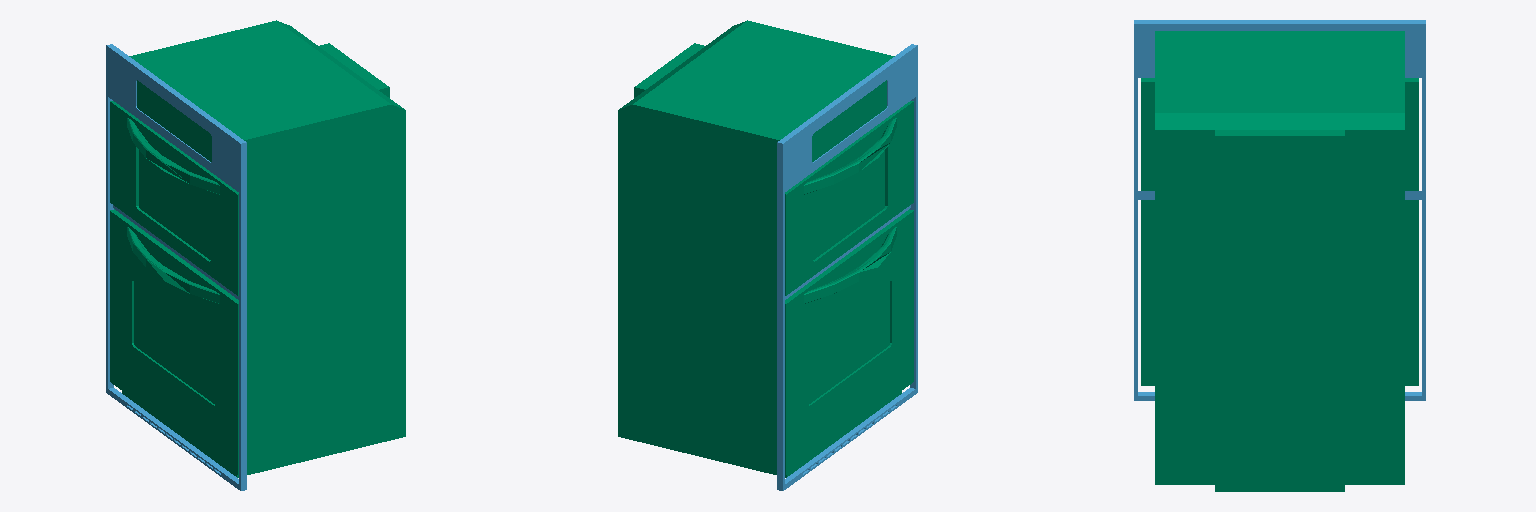
The robot description file, URDF, robot "partnet_83ab18386e87bf4efef598dabc93c115":
<?xml version="1.0" ?>
<robot name="partnet_83ab18386e87bf4efef598dabc93c115">
	<link name="base"/>
	<link name="link_0">
		<visual name="handle-1">
			<origin xyz="-0.6071008788782839 -0.23394889741627845 -0.028473990602806643"/>
			<geometry>
				<mesh filename="textured_objs/original-7.obj"/>
			</geometry>
		</visual>
			<collision>
			<origin xyz="-0.6071008788782839 -0.23394889741627845 -0.028473990602806643"/>
			<geometry>
				<mesh filename="textured_objs/col_handle_0.obj"/>
			</geometry>
		</collision>
		<collision>
			<origin xyz="-0.6071008788782839 -0.23394889741627845 -0.028473990602806643"/>
			<geometry>
				<mesh filename="textured_objs/col_handle_1.obj"/>
			</geometry>
		</collision>
		<collision>
			<origin xyz="-0.6071008788782839 -0.23394889741627845 -0.028473990602806643"/>
			<geometry>
				<mesh filename="textured_objs/col_handle_10.obj"/>
			</geometry>
		</collision>
		<collision>
			<origin xyz="-0.6071008788782839 -0.23394889741627845 -0.028473990602806643"/>
			<geometry>
				<mesh filename="textured_objs/col_handle_11.obj"/>
			</geometry>
		</collision>
		<collision>
			<origin xyz="-0.6071008788782839 -0.23394889741627845 -0.028473990602806643"/>
			<geometry>
				<mesh filename="textured_objs/col_handle_2.obj"/>
			</geometry>
		</collision>
		<collision>
			<origin xyz="-0.6071008788782839 -0.23394889741627845 -0.028473990602806643"/>
			<geometry>
				<mesh filename="textured_objs/col_handle_3.obj"/>
			</geometry>
		</collision>
		<collision>
			<origin xyz="-0.6071008788782839 -0.23394889741627845 -0.028473990602806643"/>
			<geometry>
				<mesh filename="textured_objs/col_handle_4.obj"/>
			</geometry>
		</collision>
		<collision>
			<origin xyz="-0.6071008788782839 -0.23394889741627845 -0.028473990602806643"/>
			<geometry>
				<mesh filename="textured_objs/col_handle_5.obj"/>
			</geometry>
		</collision>
		<collision>
			<origin xyz="-0.6071008788782839 -0.23394889741627845 -0.028473990602806643"/>
			<geometry>
				<mesh filename="textured_objs/col_handle_6.obj"/>
			</geometry>
		</collision>
		<collision>
			<origin xyz="-0.6071008788782839 -0.23394889741627845 -0.028473990602806643"/>
			<geometry>
				<mesh filename="textured_objs/col_handle_7.obj"/>
			</geometry>
		</collision>
		<collision>
			<origin xyz="-0.6071008788782839 -0.23394889741627845 -0.028473990602806643"/>
			<geometry>
				<mesh filename="textured_objs/col_handle_8.obj"/>
			</geometry>
		</collision>
		<collision>
			<origin xyz="-0.6071008788782839 -0.23394889741627845 -0.028473990602806643"/>
			<geometry>
				<mesh filename="textured_objs/col_handle_9.obj"/>
			</geometry>
		</collision>
</link>
	<joint name="joint_0" type="revolute">
		<origin xyz="0.6071008788782839 0.23394889741627845 0.028473990602806643"/>
		<axis xyz="-1 0 0"/>
		<child link="link_0"/>
		<parent link="link_1"/>
		<limit lower="-1.5707963267948966" upper="1.5707963267948966"/>
	</joint>
	<link name="link_1">
		<visual name="base_body-2">
			<origin xyz="0 0 0"/>
			<geometry>
				<mesh filename="textured_objs/original-4.obj"/>
			</geometry>
		</visual>
		<visual name="base_body-2">
			<origin xyz="0 0 0"/>
			<geometry>
				<mesh filename="textured_objs/original-3.obj"/>
			</geometry>
		</visual>
		<visual name="base_body-2">
			<origin xyz="0 0 0"/>
			<geometry>
				<mesh filename="textured_objs/original-2.obj"/>
			</geometry>
		</visual>
		<visual name="base_body-2">
			<origin xyz="0 0 0"/>
			<geometry>
				<mesh filename="textured_objs/original-8.obj"/>
			</geometry>
		</visual>
		<visual name="base_body-2">
			<origin xyz="0 0 0"/>
			<geometry>
				<mesh filename="textured_objs/original-9.obj"/>
			</geometry>
		</visual>
		<visual name="base_body-2">
			<origin xyz="0 0 0"/>
			<geometry>
				<mesh filename="textured_objs/original-5.obj"/>
			</geometry>
		</visual>
		<visual name="base_body-2">
			<origin xyz="0 0 0"/>
			<geometry>
				<mesh filename="textured_objs/original-6.obj"/>
			</geometry>
		</visual>
		<visual name="base_body-2">
			<origin xyz="0 0 0"/>
			<geometry>
				<mesh filename="textured_objs/original-11.obj"/>
			</geometry>
		</visual>
		<visual name="base_body-2">
			<origin xyz="0 0 0"/>
			<geometry>
				<mesh filename="textured_objs/original-1.obj"/>
			</geometry>
		</visual>
		<visual name="base_body-2">
			<origin xyz="0 0 0"/>
			<geometry>
				<mesh filename="textured_objs/original-10.obj"/>
			</geometry>
		</visual>
			<collision>
			<origin xyz="0 0 0"/>
			<geometry>
				<mesh filename="textured_objs/col_body_0.obj"/>
			</geometry>
		</collision>
		<collision>
			<origin xyz="0 0 0"/>
			<geometry>
				<mesh filename="textured_objs/col_body_1.obj"/>
			</geometry>
		</collision>
		<collision>
			<origin xyz="0 0 0"/>
			<geometry>
				<mesh filename="textured_objs/col_body_10.obj"/>
			</geometry>
		</collision>
		<collision>
			<origin xyz="0 0 0"/>
			<geometry>
				<mesh filename="textured_objs/col_body_11.obj"/>
			</geometry>
		</collision>
		<collision>
			<origin xyz="0 0 0"/>
			<geometry>
				<mesh filename="textured_objs/col_body_12.obj"/>
			</geometry>
		</collision>
		<collision>
			<origin xyz="0 0 0"/>
			<geometry>
				<mesh filename="textured_objs/col_body_13.obj"/>
			</geometry>
		</collision>
		<collision>
			<origin xyz="0 0 0"/>
			<geometry>
				<mesh filename="textured_objs/col_body_14.obj"/>
			</geometry>
		</collision>
		<collision>
			<origin xyz="0 0 0"/>
			<geometry>
				<mesh filename="textured_objs/col_body_15.obj"/>
			</geometry>
		</collision>
		<collision>
			<origin xyz="0 0 0"/>
			<geometry>
				<mesh filename="textured_objs/col_body_16.obj"/>
			</geometry>
		</collision>
		<collision>
			<origin xyz="0 0 0"/>
			<geometry>
				<mesh filename="textured_objs/col_body_17.obj"/>
			</geometry>
		</collision>
		<collision>
			<origin xyz="0 0 0"/>
			<geometry>
				<mesh filename="textured_objs/col_body_18.obj"/>
			</geometry>
		</collision>
		<collision>
			<origin xyz="0 0 0"/>
			<geometry>
				<mesh filename="textured_objs/col_body_19.obj"/>
			</geometry>
		</collision>
		<collision>
			<origin xyz="0 0 0"/>
			<geometry>
				<mesh filename="textured_objs/col_body_2.obj"/>
			</geometry>
		</collision>
		<collision>
			<origin xyz="0 0 0"/>
			<geometry>
				<mesh filename="textured_objs/col_body_20.obj"/>
			</geometry>
		</collision>
		<collision>
			<origin xyz="0 0 0"/>
			<geometry>
				<mesh filename="textured_objs/col_body_21.obj"/>
			</geometry>
		</collision>
		<collision>
			<origin xyz="0 0 0"/>
			<geometry>
				<mesh filename="textured_objs/col_body_22.obj"/>
			</geometry>
		</collision>
		<collision>
			<origin xyz="0 0 0"/>
			<geometry>
				<mesh filename="textured_objs/col_body_23.obj"/>
			</geometry>
		</collision>
		<collision>
			<origin xyz="0 0 0"/>
			<geometry>
				<mesh filename="textured_objs/col_body_24.obj"/>
			</geometry>
		</collision>
		<collision>
			<origin xyz="0 0 0"/>
			<geometry>
				<mesh filename="textured_objs/col_body_25.obj"/>
			</geometry>
		</collision>
		<collision>
			<origin xyz="0 0 0"/>
			<geometry>
				<mesh filename="textured_objs/col_body_26.obj"/>
			</geometry>
		</collision>
		<collision>
			<origin xyz="0 0 0"/>
			<geometry>
				<mesh filename="textured_objs/col_body_27.obj"/>
			</geometry>
		</collision>
		<collision>
			<origin xyz="0 0 0"/>
			<geometry>
				<mesh filename="textured_objs/col_body_28.obj"/>
			</geometry>
		</collision>
		<collision>
			<origin xyz="0 0 0"/>
			<geometry>
				<mesh filename="textured_objs/col_body_29.obj"/>
			</geometry>
		</collision>
		<collision>
			<origin xyz="0 0 0"/>
			<geometry>
				<mesh filename="textured_objs/col_body_3.obj"/>
			</geometry>
		</collision>
		<collision>
			<origin xyz="0 0 0"/>
			<geometry>
				<mesh filename="textured_objs/col_body_30.obj"/>
			</geometry>
		</collision>
		<collision>
			<origin xyz="0 0 0"/>
			<geometry>
				<mesh filename="textured_objs/col_body_31.obj"/>
			</geometry>
		</collision>
		<collision>
			<origin xyz="0 0 0"/>
			<geometry>
				<mesh filename="textured_objs/col_body_32.obj"/>
			</geometry>
		</collision>
		<collision>
			<origin xyz="0 0 0"/>
			<geometry>
				<mesh filename="textured_objs/col_body_33.obj"/>
			</geometry>
		</collision>
		<collision>
			<origin xyz="0 0 0"/>
			<geometry>
				<mesh filename="textured_objs/col_body_34.obj"/>
			</geometry>
		</collision>
		<collision>
			<origin xyz="0 0 0"/>
			<geometry>
				<mesh filename="textured_objs/col_body_35.obj"/>
			</geometry>
		</collision>
		<collision>
			<origin xyz="0 0 0"/>
			<geometry>
				<mesh filename="textured_objs/col_body_36.obj"/>
			</geometry>
		</collision>
		<collision>
			<origin xyz="0 0 0"/>
			<geometry>
				<mesh filename="textured_objs/col_body_4.obj"/>
			</geometry>
		</collision>
		<collision>
			<origin xyz="0 0 0"/>
			<geometry>
				<mesh filename="textured_objs/col_body_5.obj"/>
			</geometry>
		</collision>
		<collision>
			<origin xyz="0 0 0"/>
			<geometry>
				<mesh filename="textured_objs/col_body_6.obj"/>
			</geometry>
		</collision>
		<collision>
			<origin xyz="0 0 0"/>
			<geometry>
				<mesh filename="textured_objs/col_body_7.obj"/>
			</geometry>
		</collision>
		<collision>
			<origin xyz="0 0 0"/>
			<geometry>
				<mesh filename="textured_objs/col_body_8.obj"/>
			</geometry>
		</collision>
		<collision>
			<origin xyz="0 0 0"/>
			<geometry>
				<mesh filename="textured_objs/col_body_9.obj"/>
			</geometry>
		</collision>
</link>
	<joint name="joint_1" type="fixed">
		<origin rpy="1.570796326794897 0 -1.570796326794897" xyz="0 0 0"/>
		<child link="link_1"/>
		<parent link="base"/>
	</joint>
</robot>

--- Render facts (derived) ---
The picture shows the robot from 3 angles, left to right: view 1: azimuth 30°, elevation 25°; view 2: azimuth 150°, elevation 25°; view 3: azimuth 270°, elevation 25°; orthographic projection.
Robot: partnet_83ab18386e87bf4efef598dabc93c115 — 3 links, 2 joints (1 revolute, 1 fixed); root link base; default pose: all joints at 0.
Visible links, largest first — view 1: link_1, link_0; view 2: link_1, link_0; view 3: link_1, link_0.
Boxes of the visible links, x1,y1,x2,y2 form: link_1: (110, 20, 405, 477); link_0: (106, 44, 246, 490); link_1: (618, 20, 913, 477); link_0: (777, 44, 917, 490); link_1: (1141, 31, 1418, 491); link_0: (1134, 20, 1425, 400).
Size in the robot's own frame: 0.9566 by 1.09 by 1.56 metres.
Meshes: 11 distinct files referenced, 9 mesh visuals loaded (9 OBJ); not drawn: 2 (reference not matched to a file when rendering).
